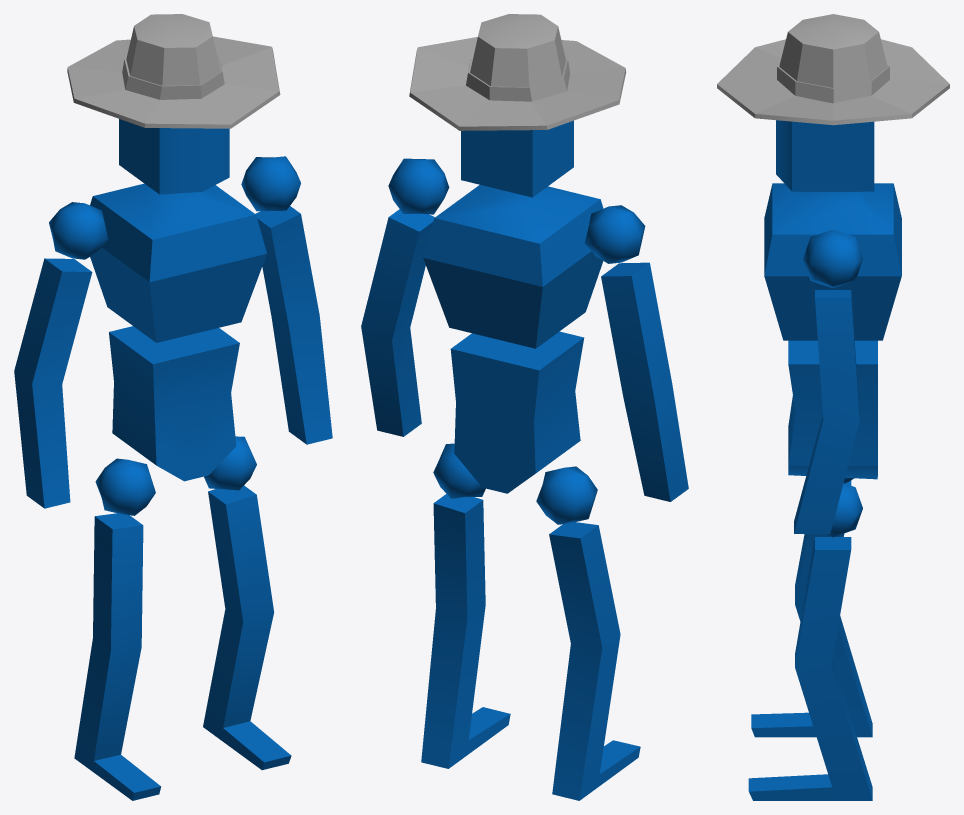
File: baseCharacter_HATTEST.fbx
3 renders of one model, left to right at view 1: azimuth 30°, elevation 25°; view 2: azimuth 150°, elevation 25°; view 3: azimuth 270°, elevation 25°, orthographic.
Visible parts, largest first — view 1: upperBody, strawHat, lowerBody, legRight, legLeft, armRight, armLeft, head, shoulderRight, shoulderLeft, pelvisRight, pelvisLeft; view 2: upperBody, strawHat, lowerBody, legRight, legLeft, armRight, armLeft, head, shoulderRight, pelvisRight, shoulderLeft, pelvisLeft; view 3: strawHat, upperBody, legLeft, armLeft, lowerBody, head, legRight, shoulderLeft, pelvisLeft.
Part boxes in pixels (left/top/right/bottom): upperBody: left=90, top=183, right=266, bottom=342; strawHat: left=67, top=14, right=280, bottom=128; lowerBody: left=109, top=326, right=239, bottom=481; legRight: left=74, top=513, right=161, bottom=800; legLeft: left=203, top=485, right=291, bottom=770; armRight: left=14, top=258, right=92, bottom=508; armLeft: left=255, top=206, right=332, bottom=444; head: left=119, top=119, right=229, bottom=194; shoulderRight: left=49, top=202, right=108, bottom=259; shoulderLeft: left=241, top=156, right=300, bottom=211; pelvisRight: left=95, top=458, right=155, bottom=515; pelvisLeft: left=204, top=436, right=256, bottom=490; upperBody: left=423, top=185, right=603, bottom=348; strawHat: left=409, top=14, right=626, bottom=130; lowerBody: left=450, top=331, right=584, bottom=493; legRight: left=549, top=522, right=640, bottom=800; legLeft: left=421, top=494, right=510, bottom=768; armRight: left=601, top=262, right=688, bottom=501; armLeft: left=361, top=209, right=434, bottom=436; head: left=461, top=120, right=573, bottom=197; shoulderRight: left=585, top=205, right=645, bottom=263; pelvisRight: left=536, top=466, right=597, bottom=524; shoulderLeft: left=388, top=158, right=449, bottom=214; pelvisLeft: left=433, top=443, right=485, bottom=498; strawHat: left=717, top=14, right=949, bottom=125; upperBody: left=764, top=183, right=901, bottom=340; legLeft: left=748, top=537, right=872, bottom=800; armLeft: left=794, top=290, right=859, bottom=533; lowerBody: left=788, top=340, right=877, bottom=479; head: left=776, top=120, right=874, bottom=191; legRight: left=751, top=480, right=872, bottom=737; shoulderLeft: left=803, top=229, right=862, bottom=287; pelvisLeft: left=826, top=483, right=862, bottom=537.
Size of the model in its own units: 78.82 by 189 by 54.21.
